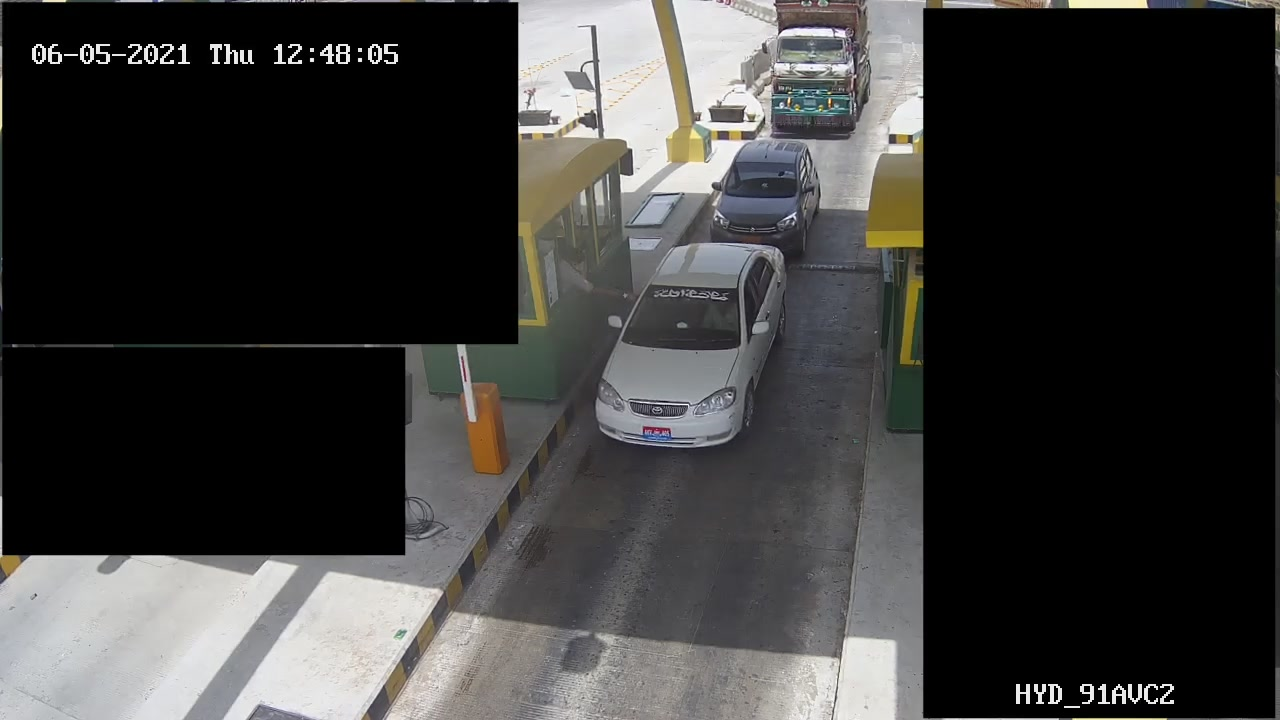F1: (589, 232, 789, 452), (701, 132, 822, 254)
